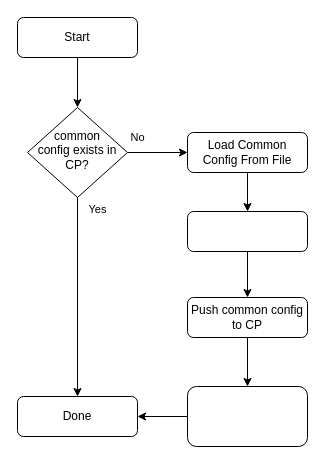
Some shapes in this 325 by 464 pixel diagram are drawn without their labels. The shapes that lost their labels are listed below. From the top down, each one's box as (x1, y1, x2, y2) in pixels, then its label:
(186, 210, 308, 252): Apply Common Env Overrides
(186, 386, 308, 446): Set setting in CP indicting Common Config is ready
